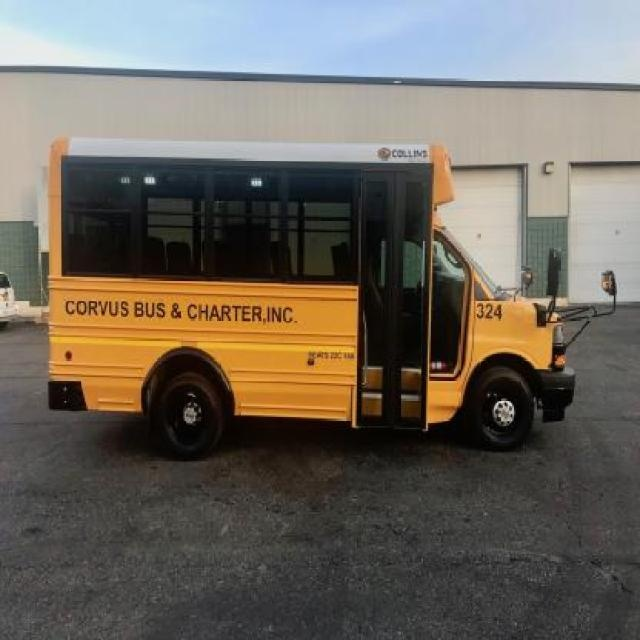Bus: (36, 137, 582, 452)
